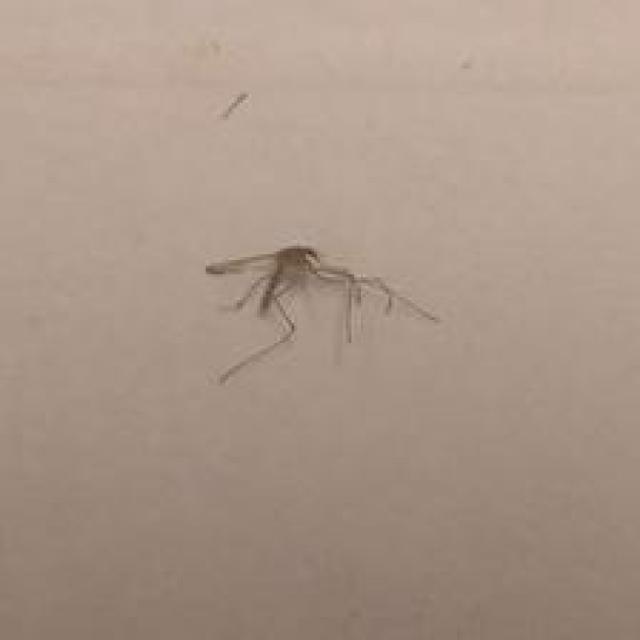Culex: (204, 243, 442, 386)
